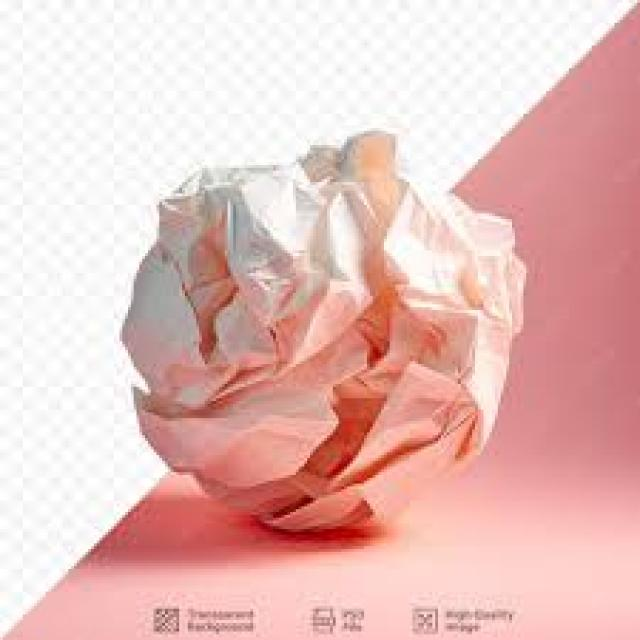crampled paper: (121, 131, 524, 531)
